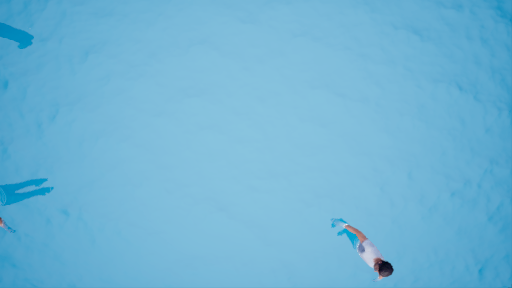person: (325, 215, 394, 278)
